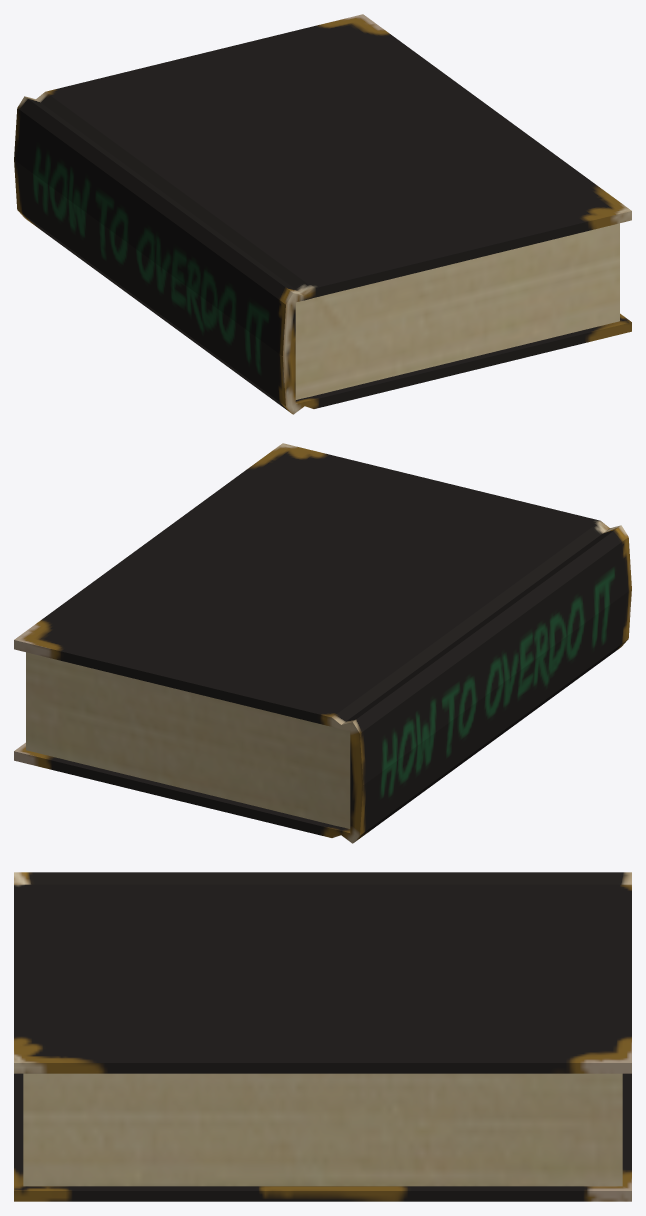
The model's file is LIBRO_OVERDO.glb.
3 renders of one model, top to bottom at view 1: azimuth 30°, elevation 25°; view 2: azimuth 150°, elevation 25°; view 3: azimuth 270°, elevation 25°, orthographic. The views are drawn at different scales.
Visible parts, largest first — view 1: LIBRO_1; view 2: LIBRO_1; view 3: LIBRO_1.
Boxes of the visible parts, left/top/right/bottom form: LIBRO_1: left=14, top=14, right=631, bottom=414; LIBRO_1: left=14, top=443, right=631, bottom=843; LIBRO_1: left=14, top=872, right=631, bottom=1201.
Bounding box in the file's own units: 0.3 × 0.1 × 0.4.
1 material, 1 textured.
